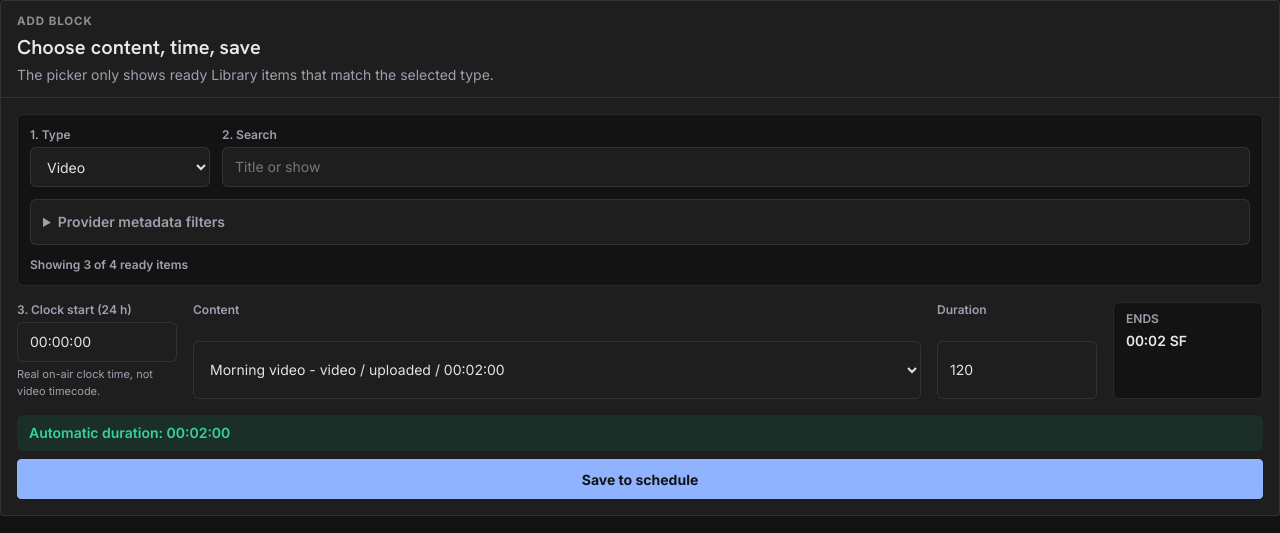
Test: AgendaBlockForm › lets operator enter duration when selected content has no known duration
This screenshot has width=1280, height=533.
Select "Slide" in the dropdown labelled "1. Type" at (120, 167), box x1=30 y1=147 x2=210 y2=187
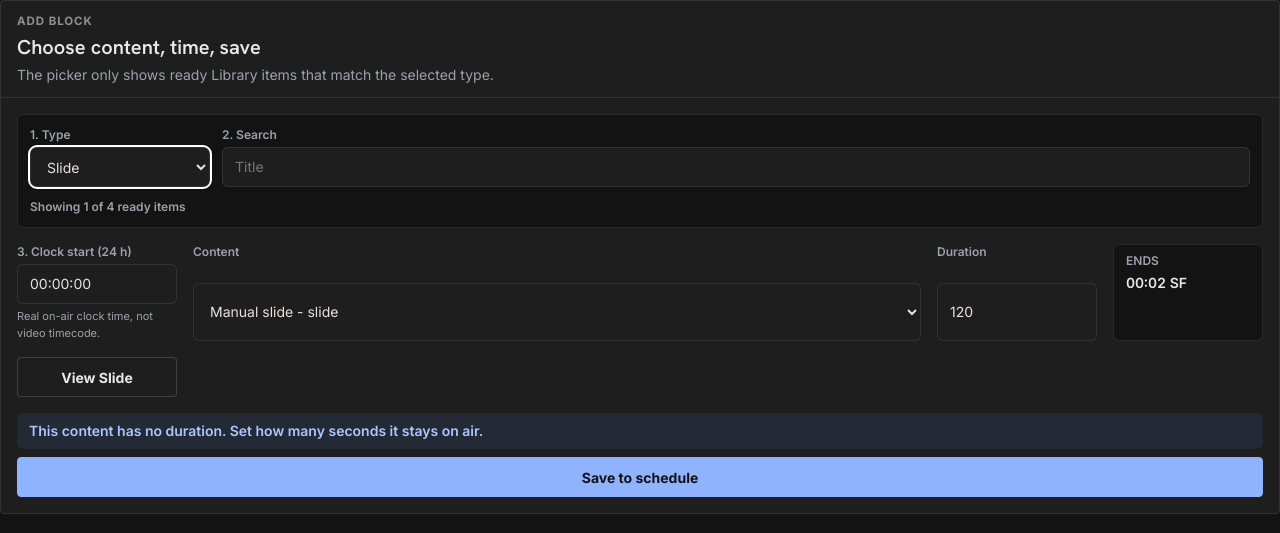
Select "Manual slide - slide" in the dropdown labelled "Content" at (557, 312), box x1=193 y1=282 x2=921 y2=341
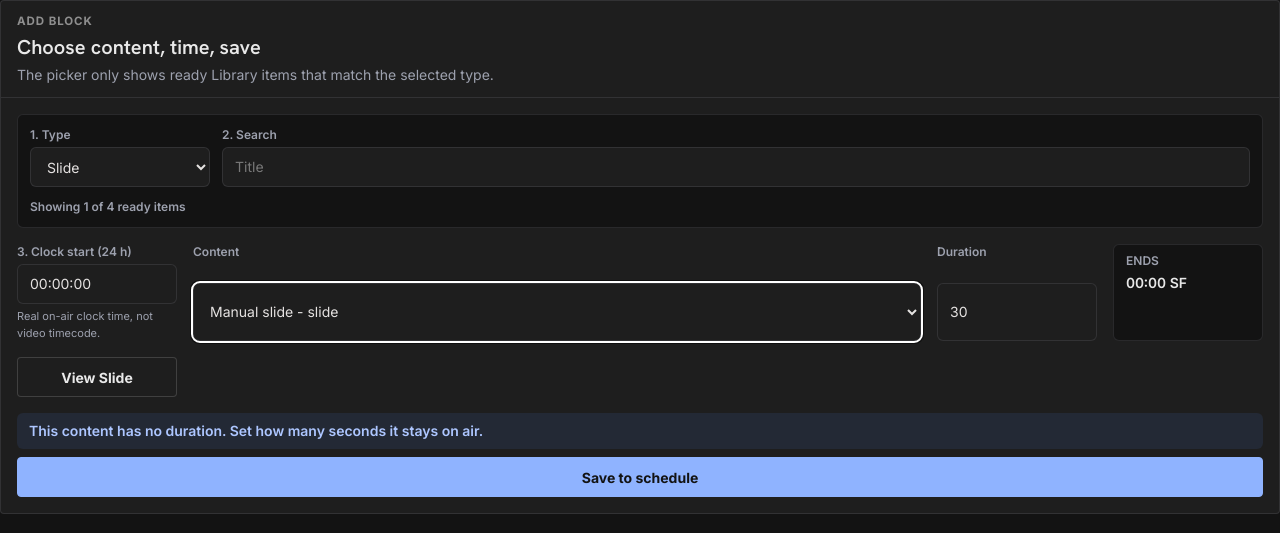
Expected: the heading labelled "Provider" is not shown
Now the text "This content has no duration. Set how many seconds it stays on air." is shown, box x1=17 y1=413 x2=1263 y2=449
Now the number field labelled "Duration" holds "30", box x1=937 y1=282 x2=1097 y2=341
